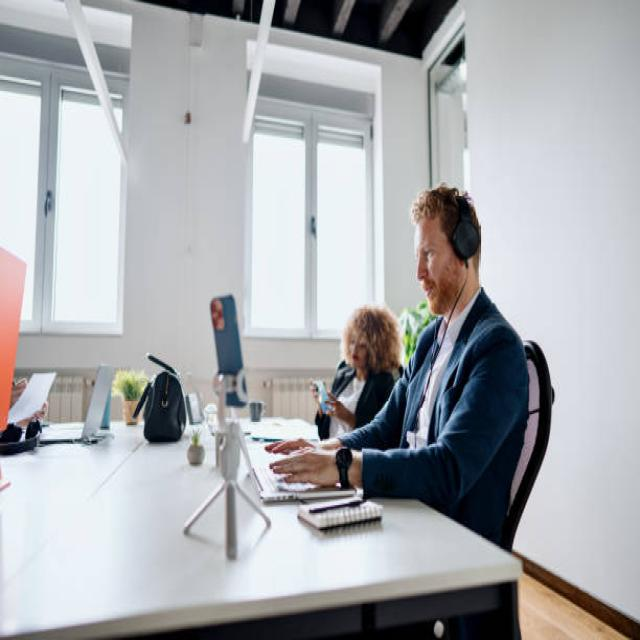Headphone: (452, 196, 480, 263)
